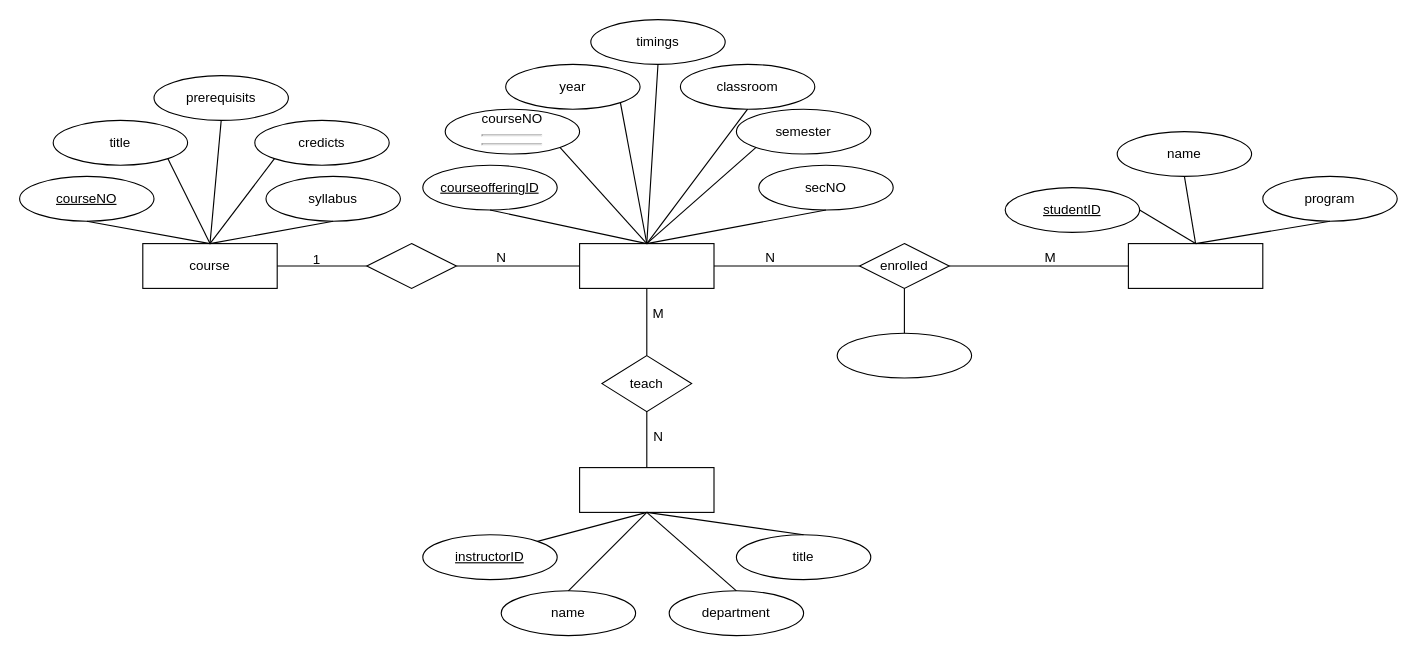
Image size: 1417x655. Some labels were removed from this diagram. The shapes that lost their labels are listed below. From the top down, each one's centre as x and y in pixels, then its label:
point 411,265: includes
point 646,265: courseOffering
point 1195,265: student
point 904,355: grade
point 646,489: instructor
